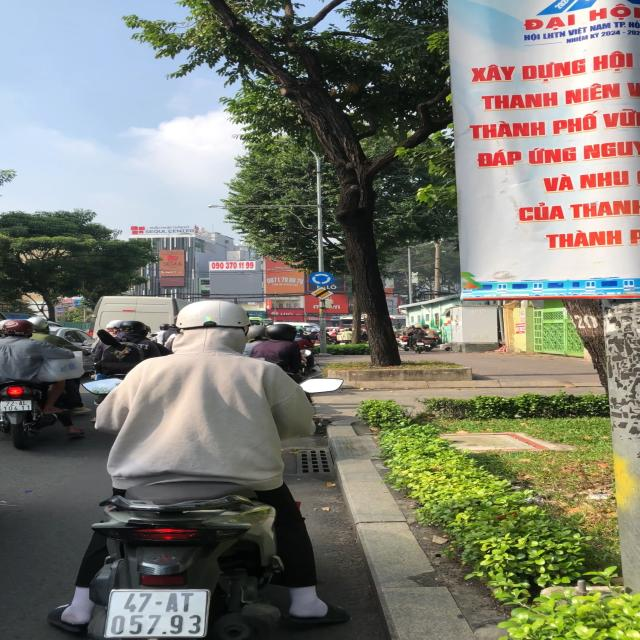Bien bao noi giao nhau chay theo vong xuyen: (306, 271, 338, 288)
